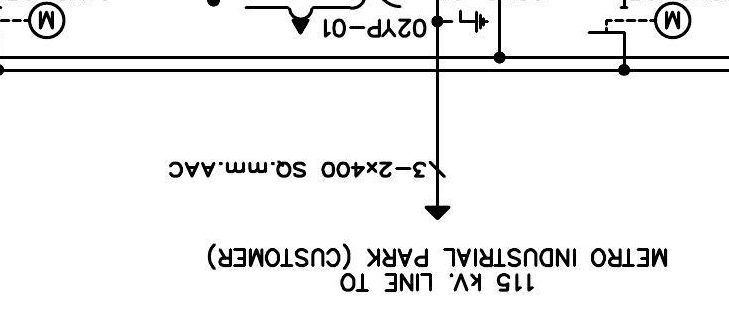115_1way_ds_w_motor: (587, 0, 694, 39)
115_gs: (449, 9, 490, 34)
